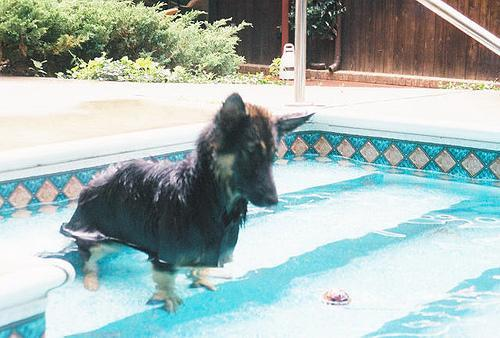German_shepherd: (60, 91, 317, 317)
